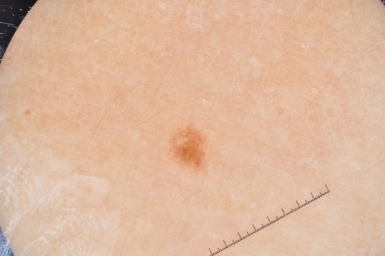melanoma: (172, 125, 206, 168)
